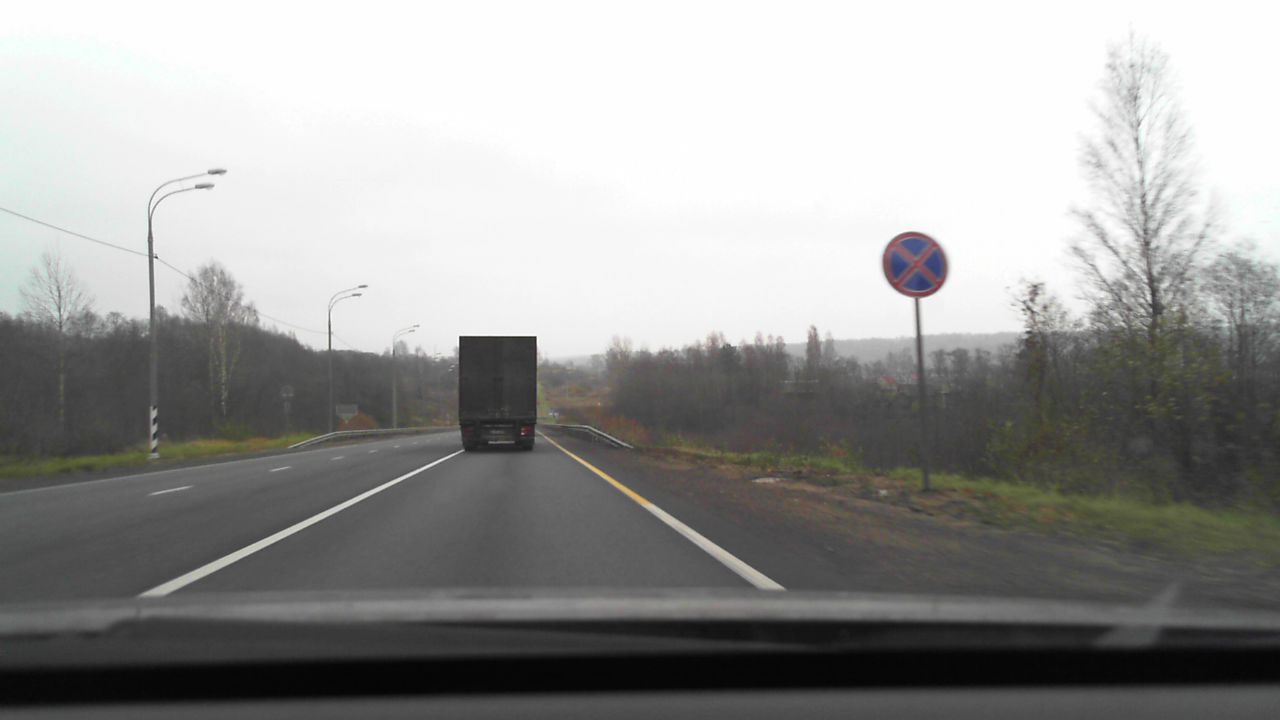No Parking: (882, 231, 948, 299)
